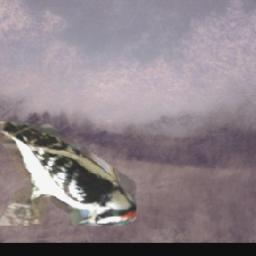Woodpecker: (0, 122, 136, 227)
